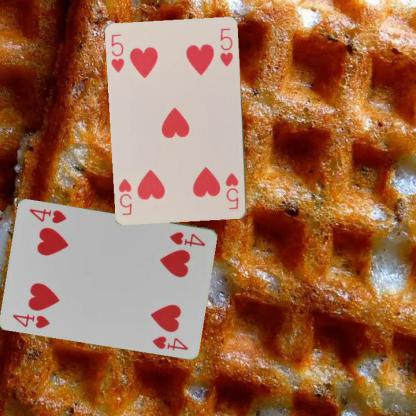4h: (10, 312, 52, 330), (167, 229, 207, 247)
5h: (109, 31, 126, 74), (223, 170, 240, 211)
